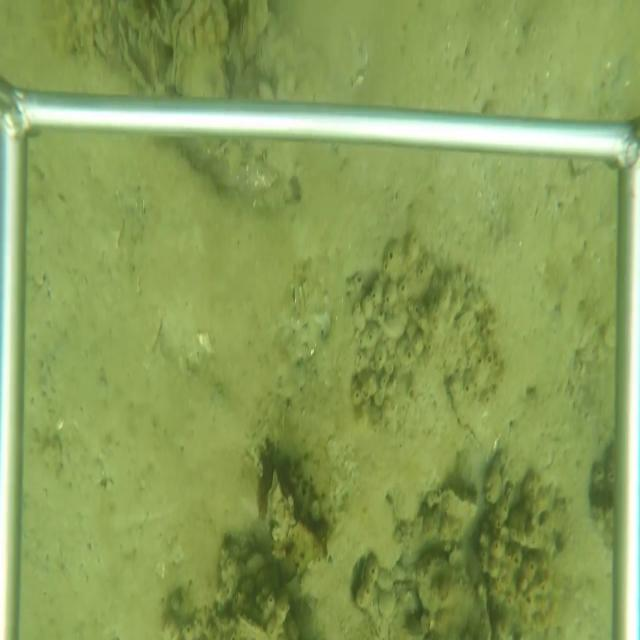Oyster-Closed: (169, 1, 232, 99)
Oyster-Indeterminate: (445, 373, 502, 463)
